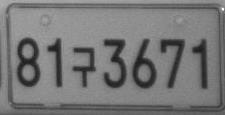1: (190, 37, 216, 89), (44, 37, 70, 87)
3: (102, 37, 127, 88)
6: (131, 37, 157, 89)
7: (159, 38, 186, 89)
8: (16, 36, 41, 87)
구: (72, 46, 96, 88)
